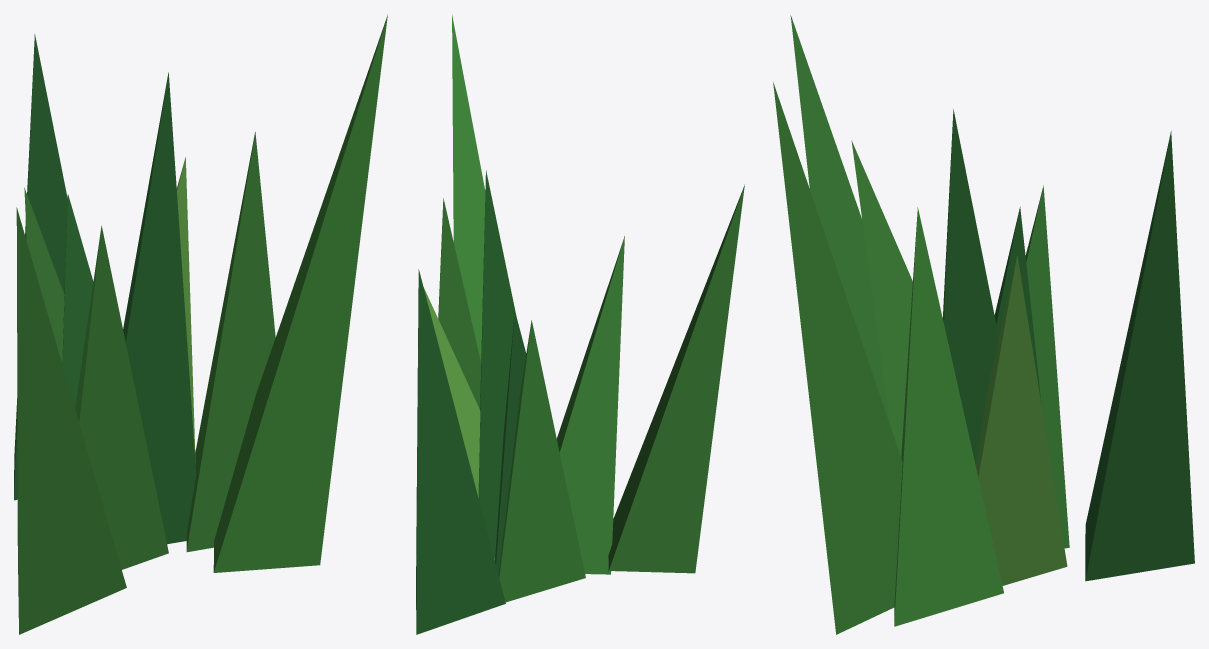
File: Scatter_GrassTuftA.fbx
The picture shows the model from 3 angles, left to right: view 1: azimuth 30°, elevation 25°; view 2: azimuth 150°, elevation 25°; view 3: azimuth 270°, elevation 25°; orthographic projection. The views are drawn at different scales.
Parts seen in each view (by area): view 1: GrassTuftA; view 2: GrassTuftA; view 3: GrassTuftA.
Boxes of the visible parts, bbox=[...] form: GrassTuftA: bbox=[14, 14, 387, 634]; GrassTuftA: bbox=[416, 15, 744, 634]; GrassTuftA: bbox=[773, 15, 1194, 634].
Bounding box in the file's own units: 1.62 × 2.42 × 1.61.
